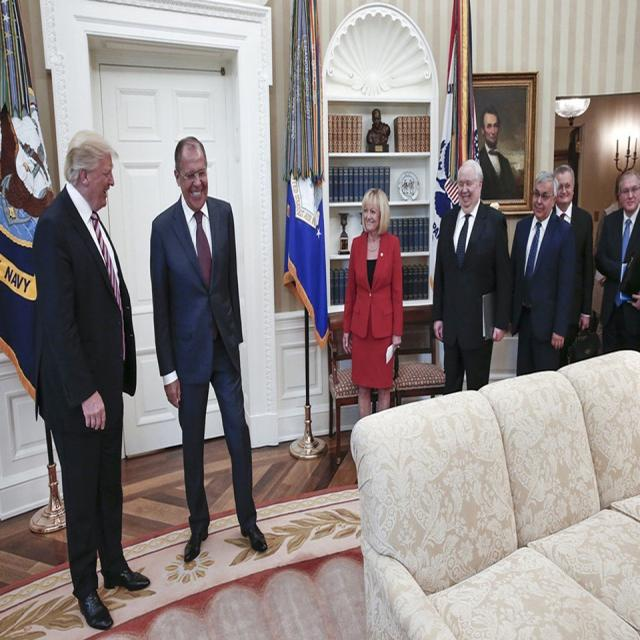body: (28, 124, 153, 635), (145, 132, 272, 566), (432, 158, 515, 401), (364, 100, 523, 204), (341, 187, 405, 420), (508, 169, 578, 377), (550, 163, 596, 368), (593, 167, 640, 354), (592, 147, 626, 288)
